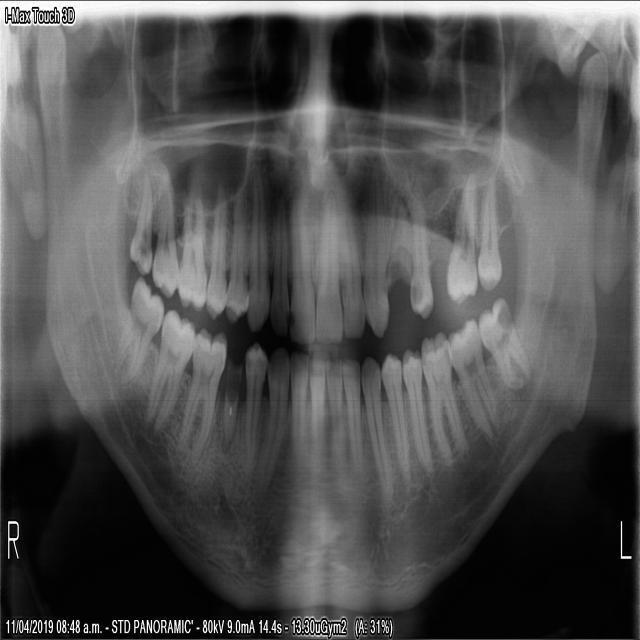LCD: (358, 347, 395, 501)
LCU: (358, 185, 390, 344)
LID: (339, 352, 369, 474), (324, 352, 347, 470)
LIU: (313, 201, 342, 347), (339, 203, 366, 340)
LMD: (443, 312, 505, 450), (417, 329, 473, 470), (476, 291, 534, 400)
LMU: (473, 175, 501, 295)
LPMD: (398, 343, 434, 478), (380, 350, 409, 485)
LPMU: (442, 166, 478, 305), (406, 193, 433, 322)
RCD: (250, 338, 288, 495)
RCU: (245, 185, 269, 337)
RID: (284, 348, 309, 469), (306, 354, 327, 468)
RIU: (287, 200, 314, 343), (267, 195, 287, 337)
RMD: (138, 299, 197, 440), (107, 268, 165, 399), (173, 325, 227, 460)
RMU: (176, 187, 207, 314), (148, 168, 178, 299), (123, 178, 152, 277)
RPMD: (239, 337, 268, 467), (219, 345, 242, 447)
RPMU: (221, 193, 249, 326), (205, 190, 229, 318)
